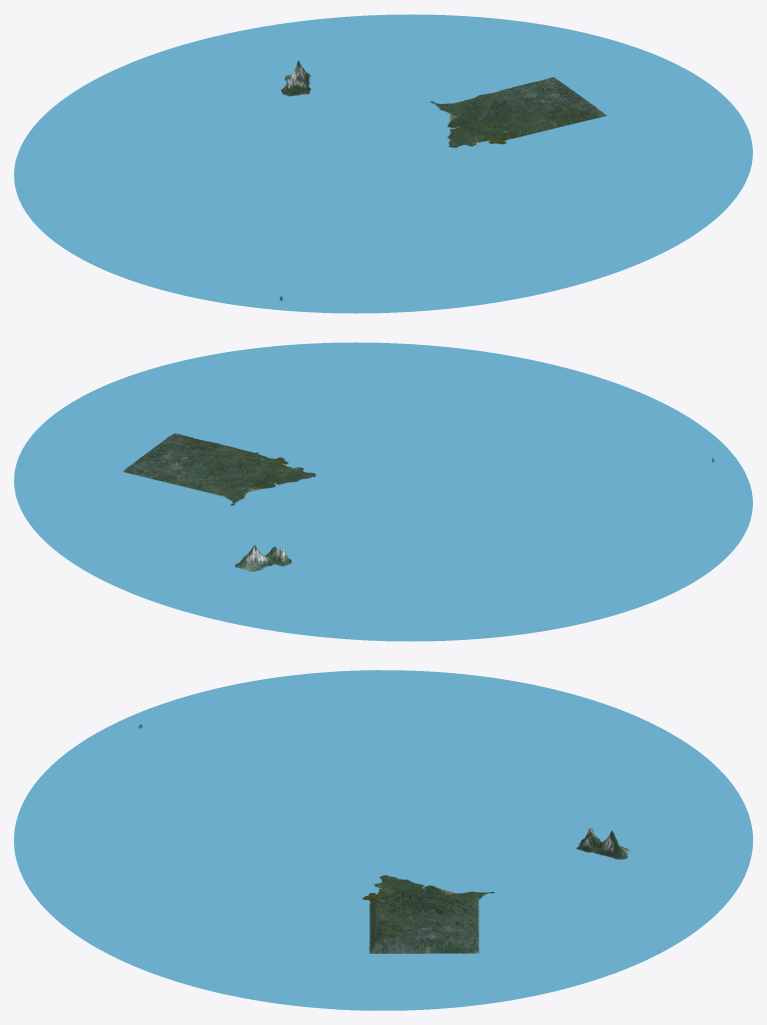
The model's file is GNQ-previa-terrain.glb.
3 views of the same model, one above another, from view 1: azimuth 30°, elevation 25°; view 2: azimuth 150°, elevation 25°; view 3: azimuth 270°, elevation 25° (orthographic). The views are drawn at different scales.
Parts seen in each view (by area): view 1: Guiné Equatorial; view 2: Guiné Equatorial; view 3: Guiné Equatorial.
Boxes of the visible parts, <box> form: Guiné Equatorial: <box>14,14,752,313</box>; Guiné Equatorial: <box>14,342,752,641</box>; Guiné Equatorial: <box>14,670,752,1010</box>.
Size of the model in its own units: 2.64 by 0.0775 by 2.42.
1 material, 1 textured.
